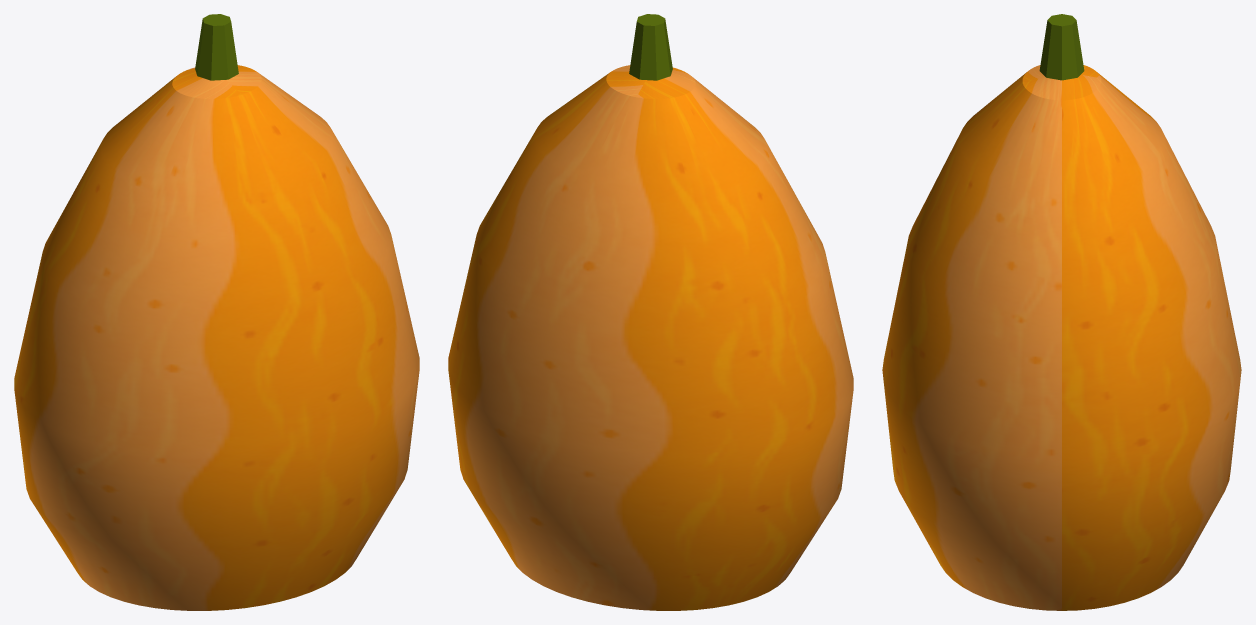
The model's file is tropical_gourd-ItnPLmSq.glb.
The picture shows the model from 3 angles, left to right: view 1: azimuth 30°, elevation 25°; view 2: azimuth 150°, elevation 25°; view 3: azimuth 270°, elevation 25°; orthographic projection.
Visible parts, largest first — view 1: HI_tropical_gourd; view 2: HI_tropical_gourd; view 3: HI_tropical_gourd.
Part boxes in pixels (bbox=[...]): HI_tropical_gourd: bbox=[14, 14, 419, 610]; HI_tropical_gourd: bbox=[448, 14, 853, 610]; HI_tropical_gourd: bbox=[882, 14, 1241, 610].
Bounding box in the file's own units: 1.85 × 2.7 × 1.6.
Materials: 2 (2 with a texture image).
